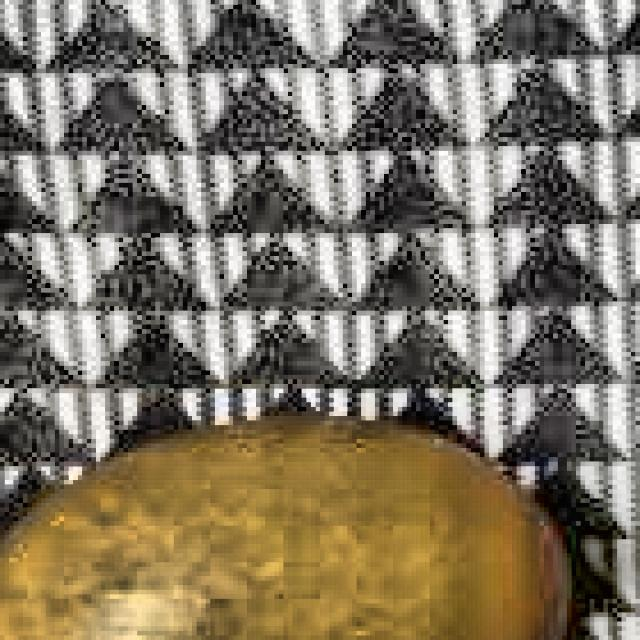egg: (0, 411, 581, 640)
